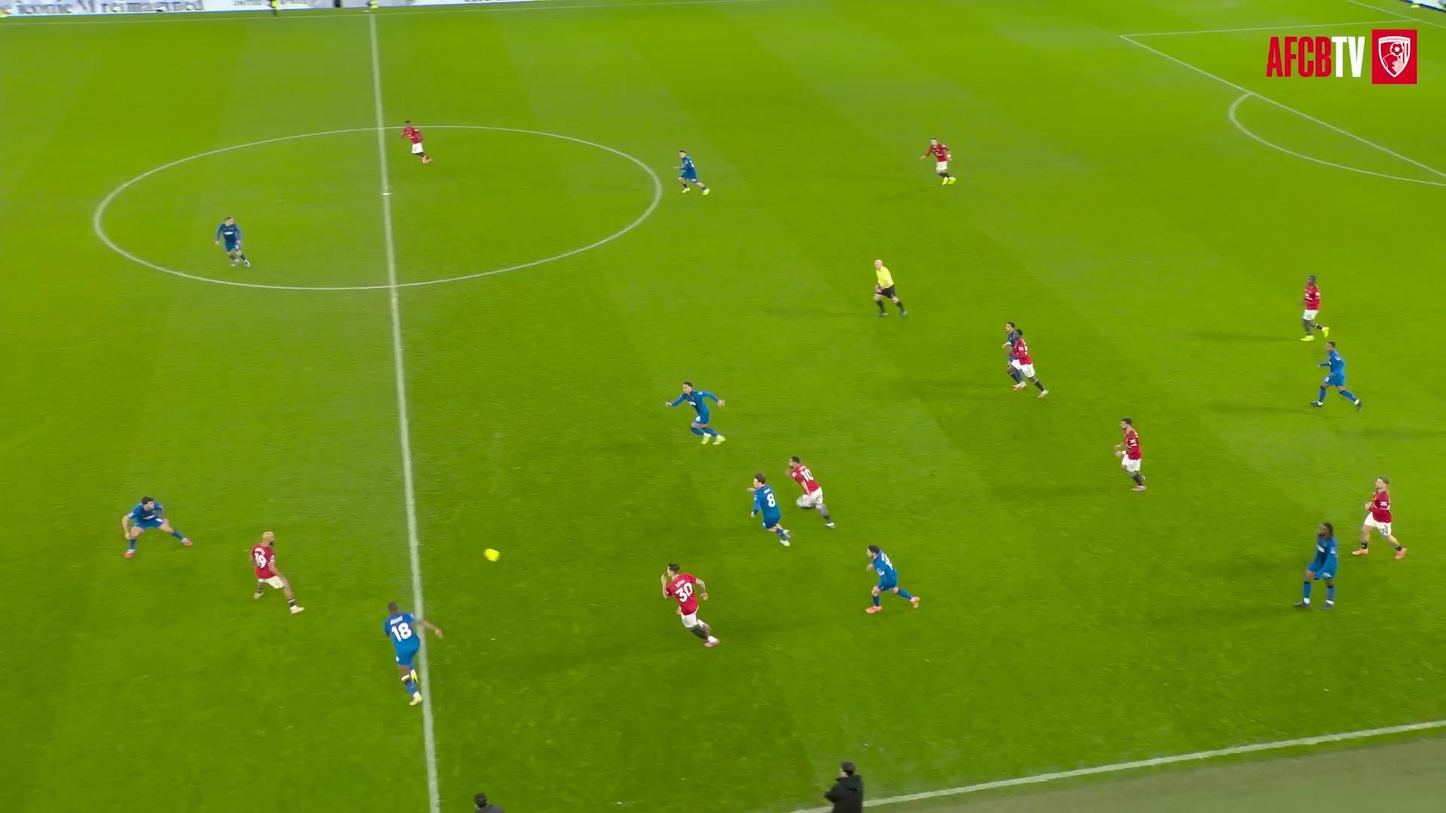football: (476, 542, 511, 568)
player: (384, 602, 442, 705), (660, 564, 718, 647), (1352, 477, 1406, 559), (250, 532, 304, 614), (121, 496, 191, 557), (1294, 522, 1338, 609), (665, 381, 725, 444), (866, 544, 919, 613), (1310, 341, 1362, 411), (789, 456, 834, 528), (748, 473, 791, 546), (1011, 327, 1048, 397), (1115, 417, 1146, 491), (1301, 275, 1329, 341), (215, 217, 251, 266), (920, 139, 956, 184), (676, 150, 709, 195), (401, 120, 432, 163), (1002, 322, 1022, 383), (268, 0, 279, 16)
referee: (874, 260, 907, 316)
